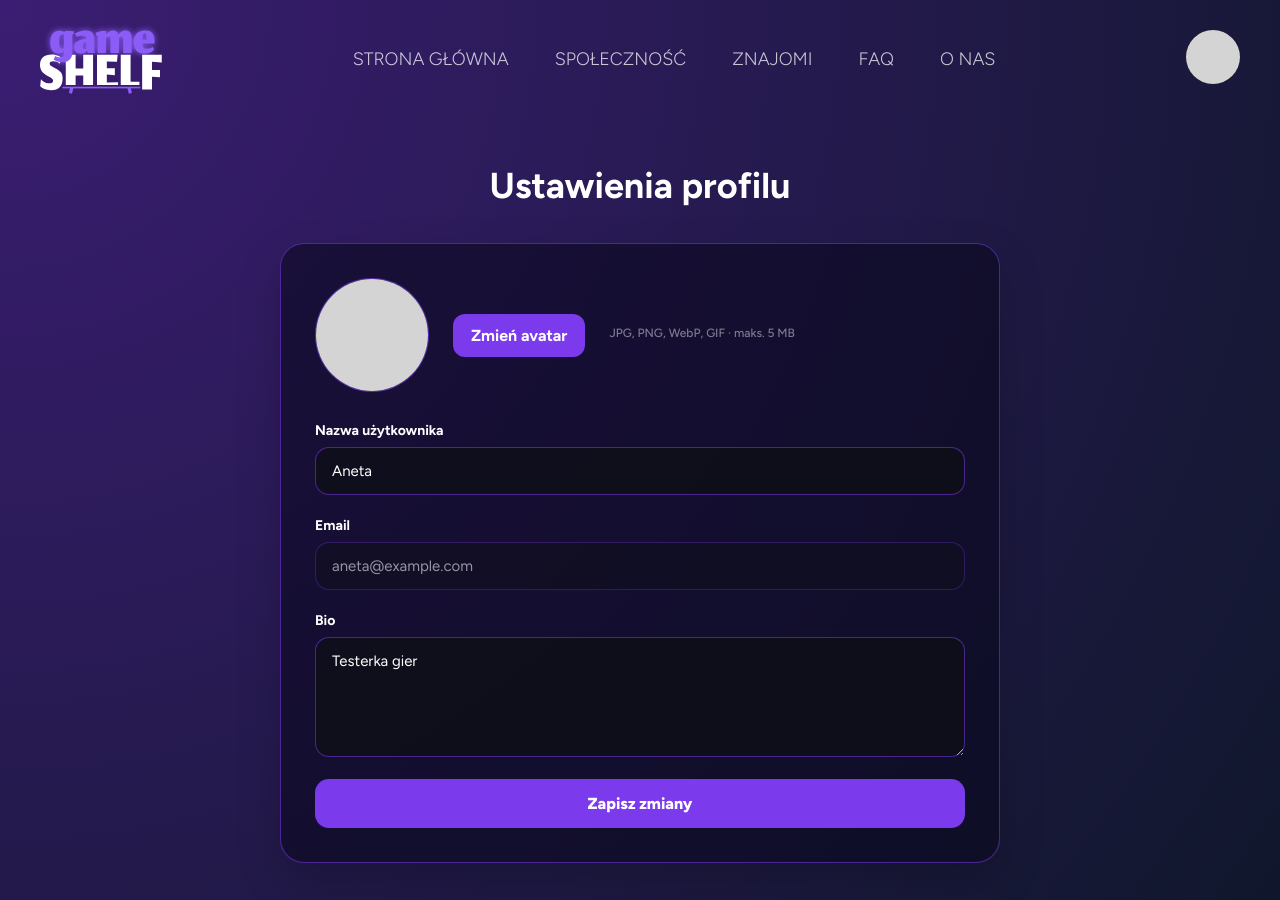
Test: ProfilePage › zapisuje zmienioną nazwę i bio jako FormData
This screenshot has width=1280, height=900.
Replace the text in the field with placeholder "Wpisz nazwę użytkownika" below "Nazwa użytkownika" with "NowaAneta". click: (640, 471)
box: [315,447,965,495]
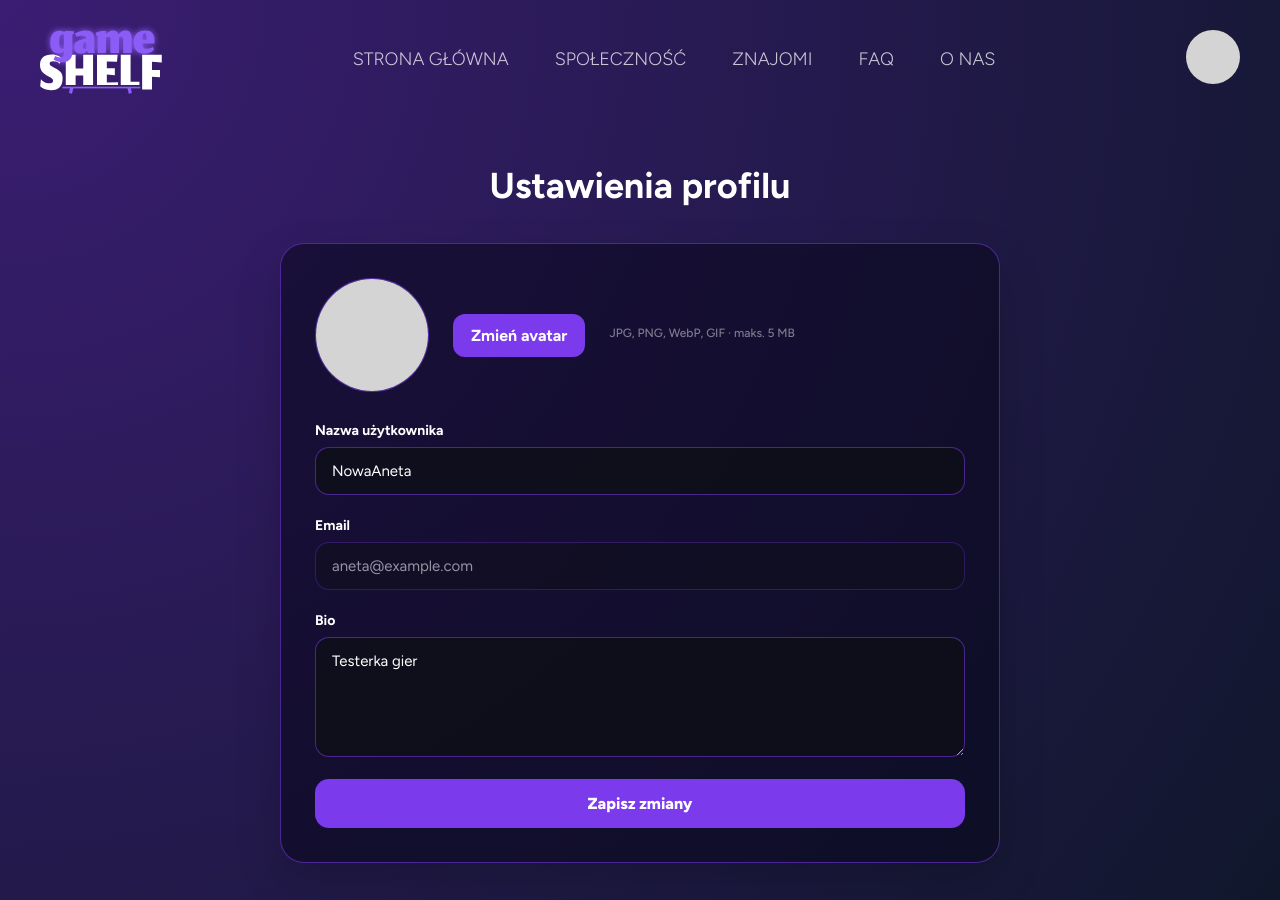
Replace the text in the text box with placeholder "Napisz coś o sobie" with "Nowe bio". click: (640, 697)
box: [315,637,965,757]
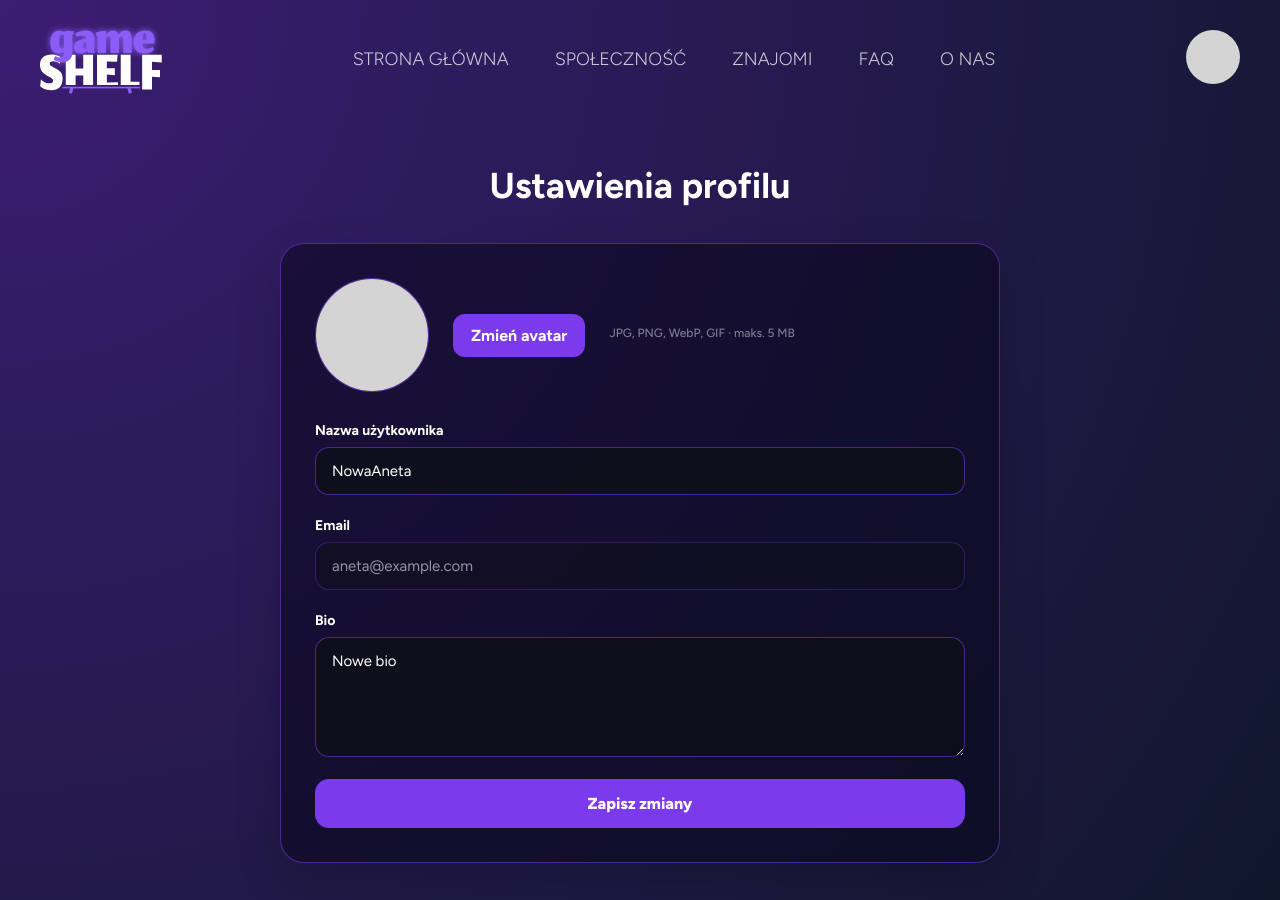
Click the button "Zapisz zmiany". click: click(640, 804)
box: [315,779,965,828]
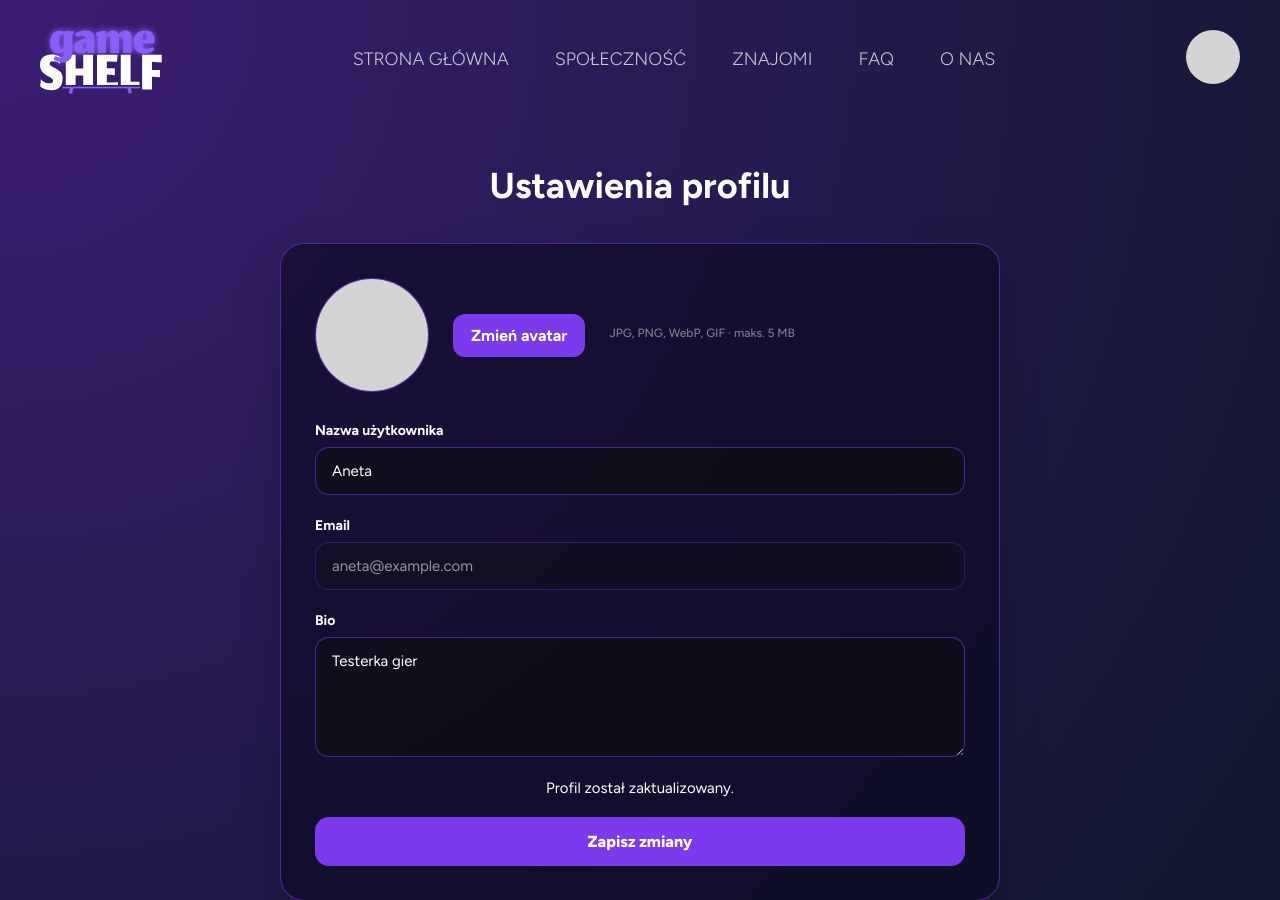
Check: the text "Profil został zaktualizowany." is shown, box [546,779,734,797]
